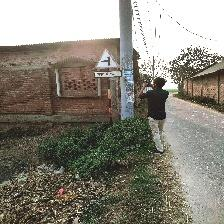Side-road-left: (93, 49, 122, 78)
